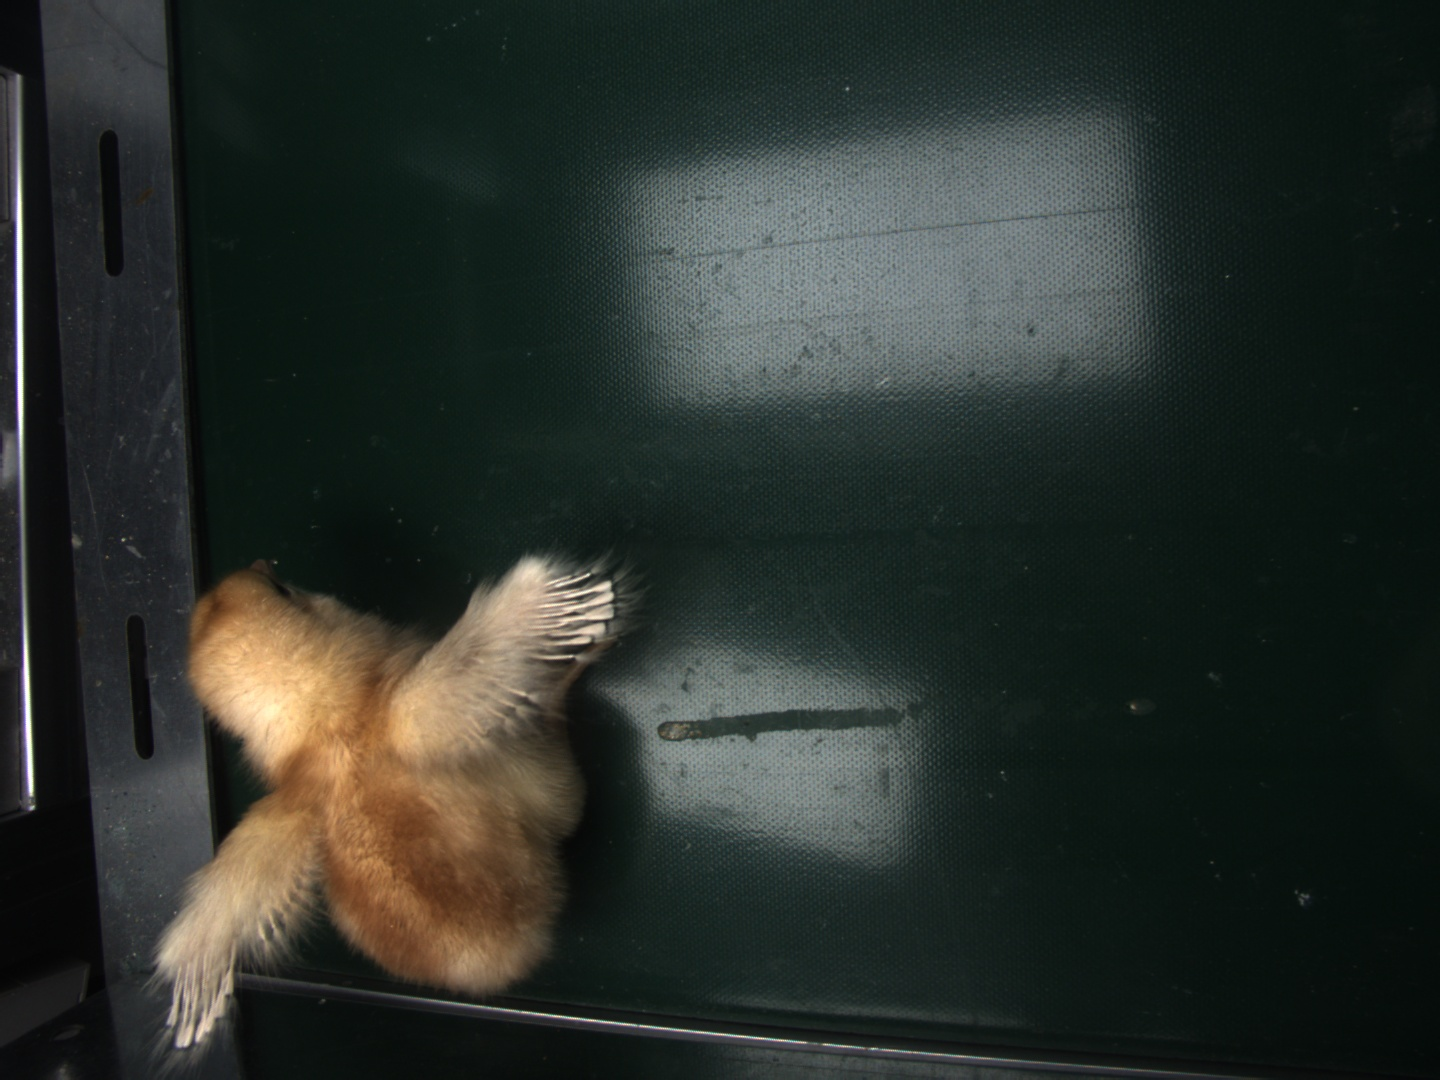female: (534, 571, 612, 659)
